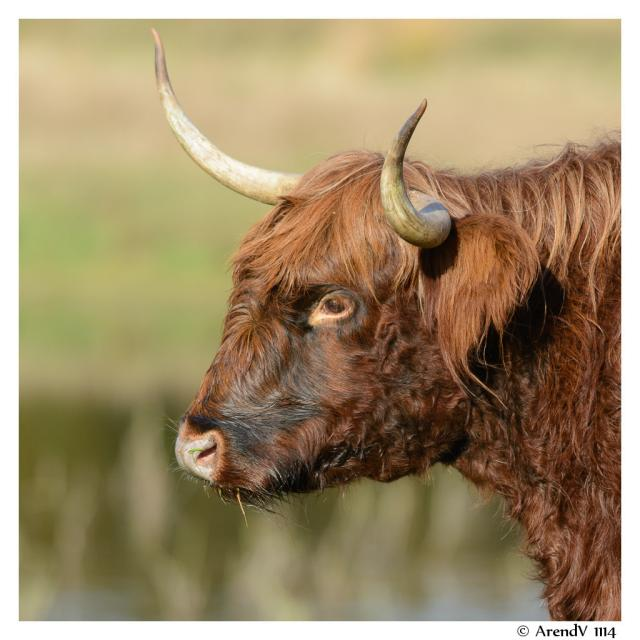Cattle: (150, 27, 622, 622)
